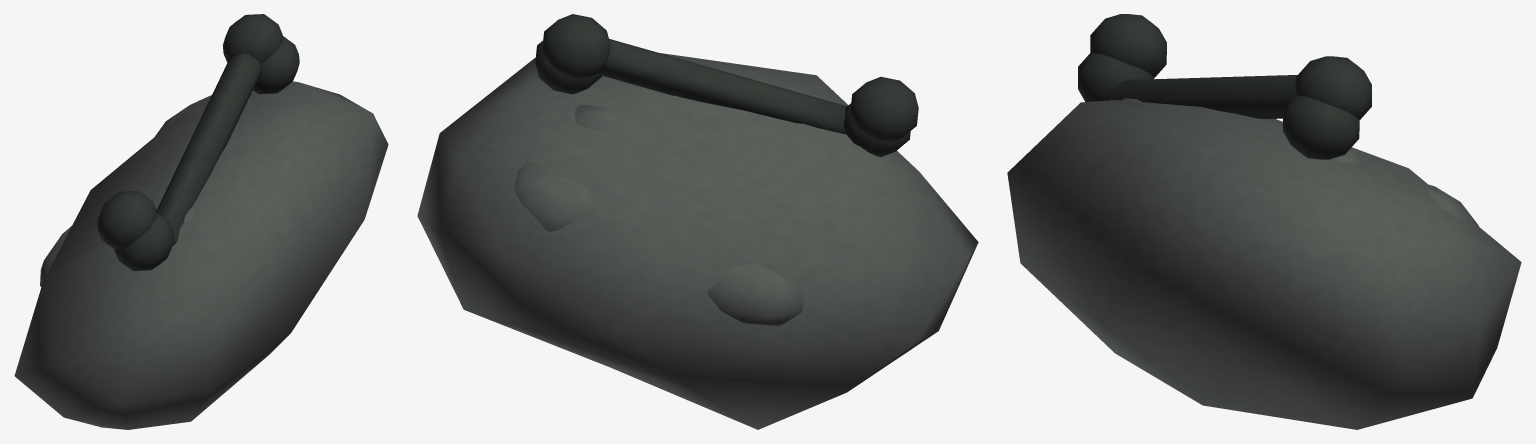
3 views of the same model, side by side, from view 1: azimuth 30°, elevation 25°; view 2: azimuth 150°, elevation 25°; view 3: azimuth 270°, elevation 25° (orthographic). The views are drawn at different scales.
Parts seen in each view (by area): view 1: Coagulated material mass; view 2: Coagulated material mass; view 3: Coagulated material mass.
Boxes of the visible parts, left/top/right/bottom form: Coagulated material mass: left=14, top=14, right=388, bottom=429; Coagulated material mass: left=417, top=14, right=978, bottom=429; Coagulated material mass: left=1007, top=14, right=1521, bottom=429.
Bounding box in the file's own units: 1.03 × 0.8393 × 0.8998.
1 material, 1 textured.
